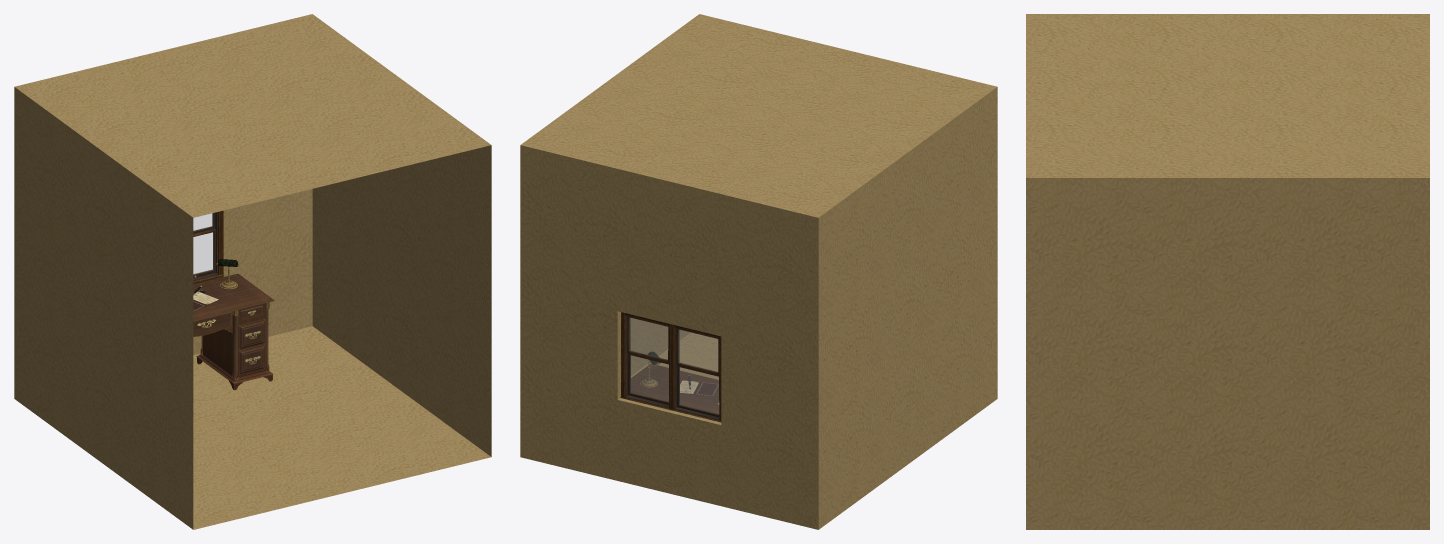
3 renders of one model, left to right at view 1: azimuth 30°, elevation 25°; view 2: azimuth 150°, elevation 25°; view 3: azimuth 270°, elevation 25°, orthographic. The views are drawn at different scales.
Visible parts, largest first — view 1: Cube, Box002, Base, L, Cylinder001; view 2: Cube, Base, Box002, R, L, Cylinder001; view 3: Cube.
Boxes of the visible parts, left/top/right/bottom form: Cube: left=14, top=14, right=491, bottom=529; Box002: left=193, top=273, right=274, bottom=390; Base: left=193, top=210, right=224, bottom=284; L: left=193, top=228, right=215, bottom=277; Cylinder001: left=193, top=259, right=239, bottom=311; Cube: left=520, top=14, right=997, bottom=529; Base: left=620, top=312, right=721, bottom=422; Box002: left=631, top=364, right=719, bottom=413; R: left=677, top=365, right=719, bottom=417; L: left=628, top=353, right=668, bottom=404; Cylinder001: left=640, top=351, right=719, bottom=405; Cube: left=1026, top=14, right=1429, bottom=529.
Bounding box in the file's own units: 4.6 × 4.6 × 4.78.
6 materials, 4 textured.
